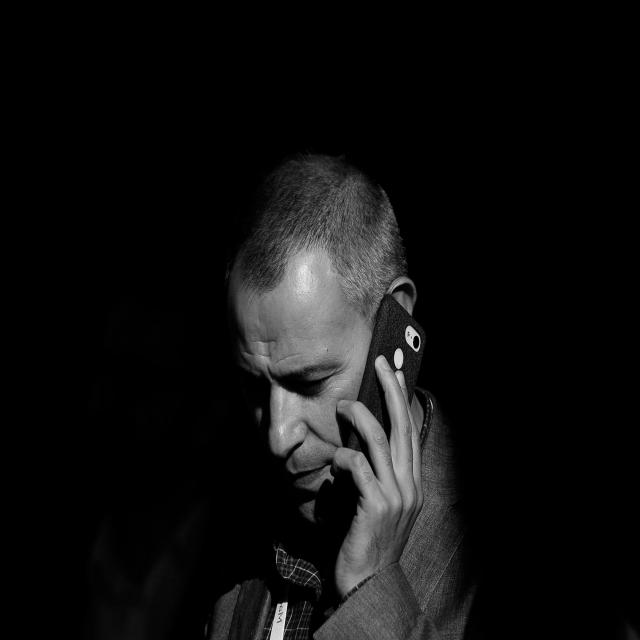phone: (297, 271, 444, 569)
